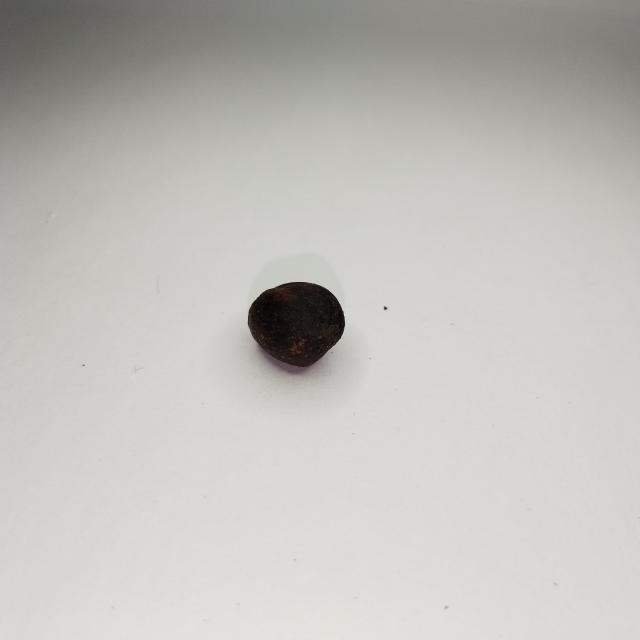Danado: (248, 280, 345, 369)
